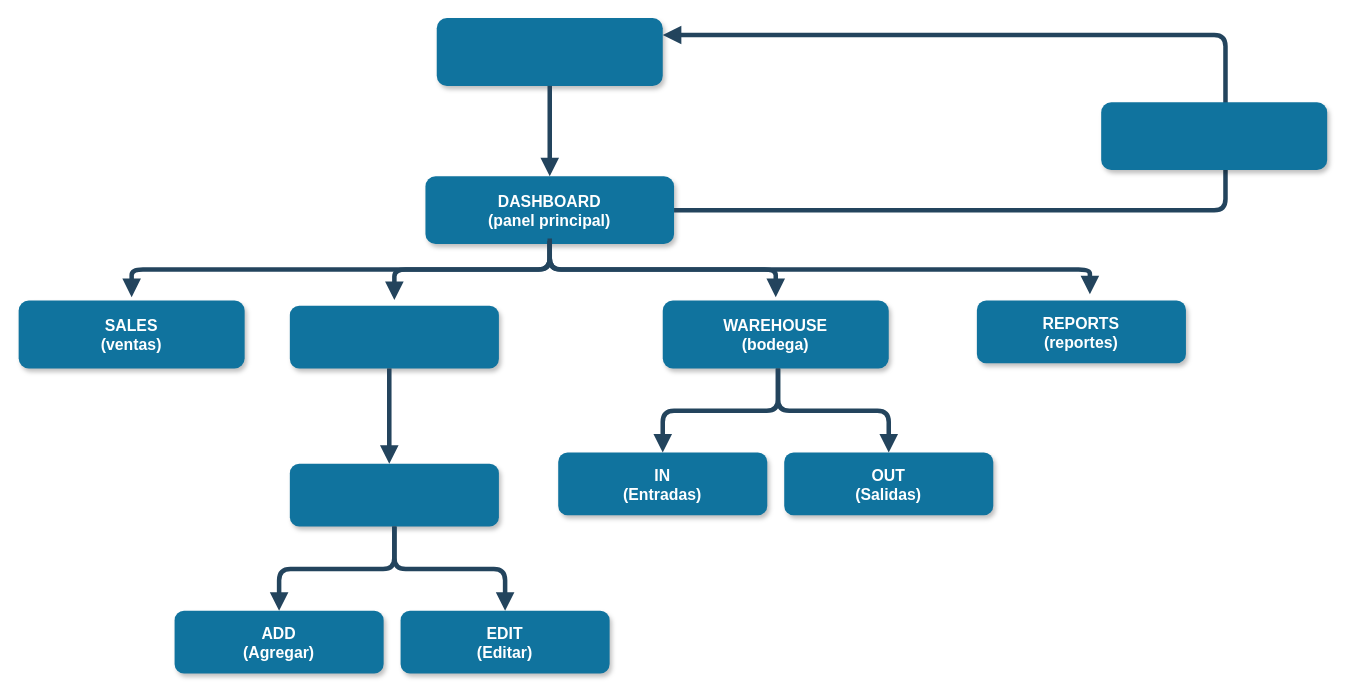
This 1346x692 diagram has some shape labels left out. The shapes that lost their labels are listed below. From the top down, each one's centre as x and y in pixels, then its label:
At (550,53): "LOGIN (form. acceso)".
At (1214,137): "LOGOUT".
At (395,338): "PRODUCTS (productos)".
At (395,496): "ADMIN (administrar)".
